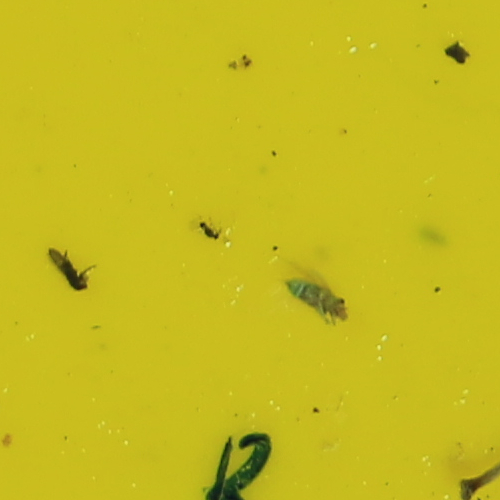Glycaspis: (285, 277, 350, 323)
